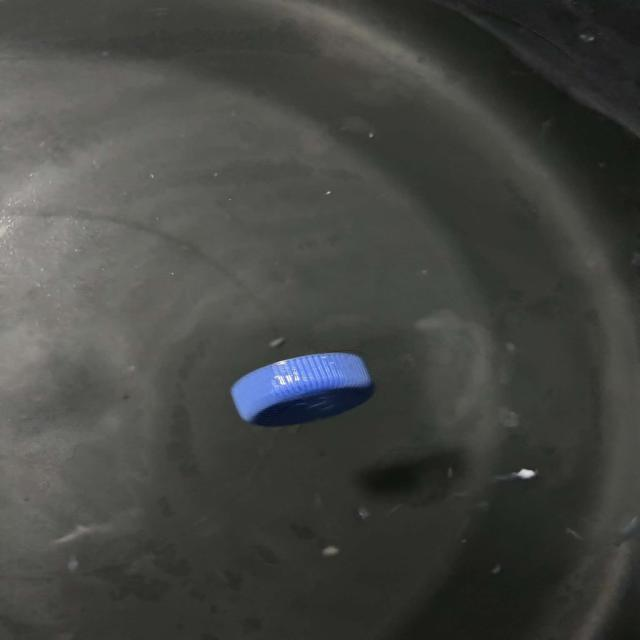Bottle Lid: (199, 325, 420, 454)
